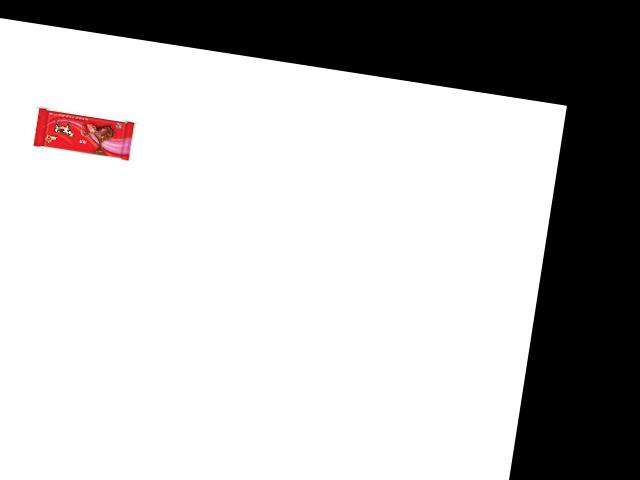chocolate: (26, 99, 136, 160)
